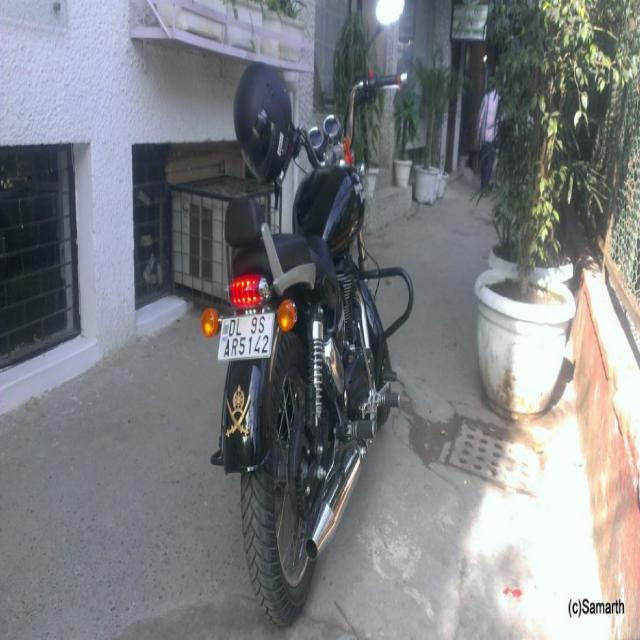license_plate: (217, 310, 275, 360)
